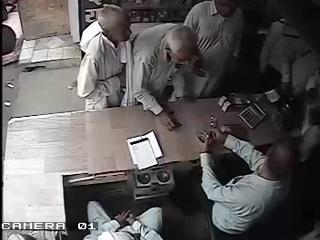Normal: (198, 123, 300, 240), (122, 23, 206, 130), (182, 0, 244, 100), (83, 200, 164, 240)
shoplifting: (76, 4, 133, 111)
